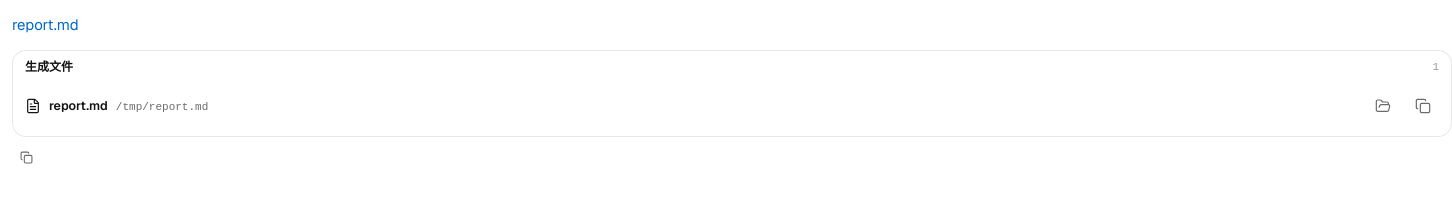
Test case: artifact opening regressions › shows IPC failures instead of leaving a rejected promise
Click the link "report.md" at (45, 24), box [12,15,79,34]
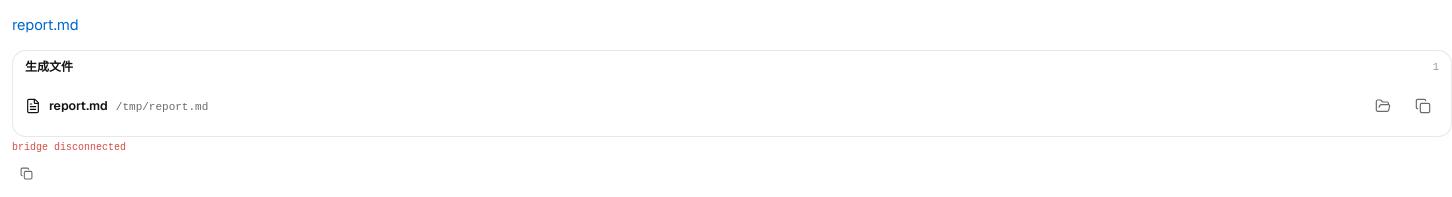
Now the message reads "bridge disconnected", box [12,142,126,153]
